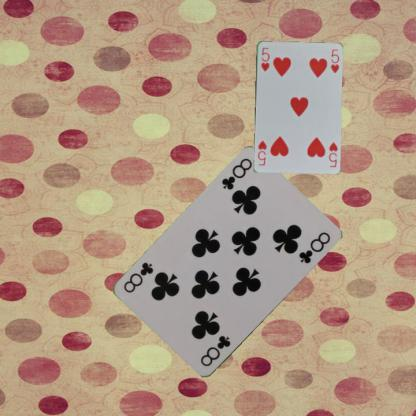5h: (326, 139, 338, 168), (258, 45, 270, 72)
8c: (219, 156, 254, 192), (198, 332, 232, 368)
